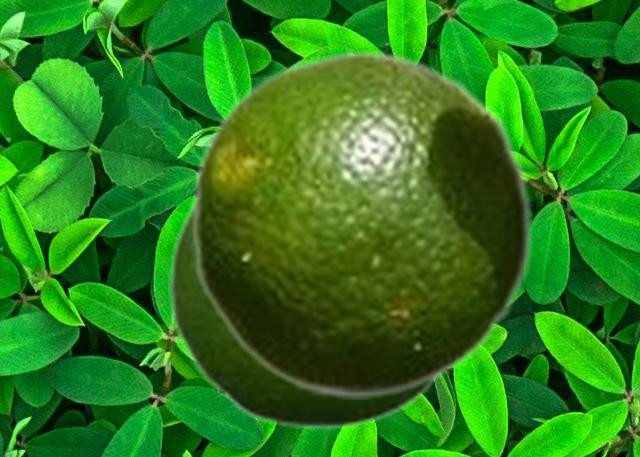calamansi: (189, 49, 534, 398), (168, 191, 448, 430)
